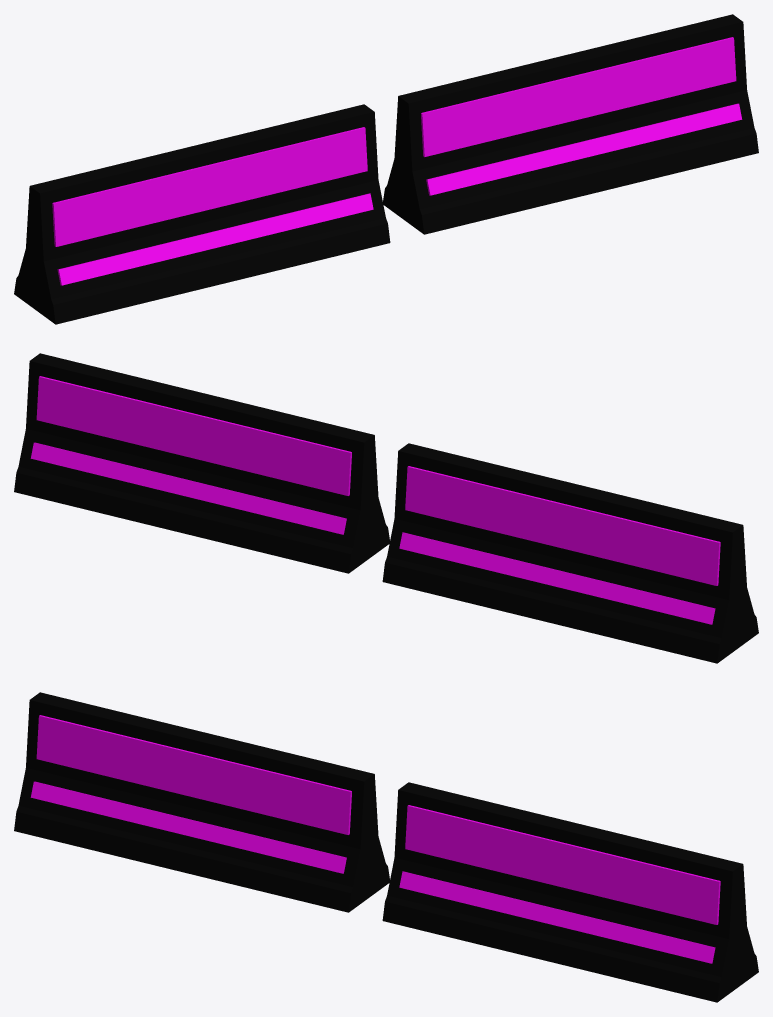
File: barrera.FBX
3 views of the same model, one above another, from view 1: azimuth 30°, elevation 25°; view 2: azimuth 150°, elevation 25°; view 3: azimuth 330°, elevation 25° (orthographic).
Visible parts, largest first — view 1: Box153; view 2: Box153; view 3: Box153.
Part boxes in pixels (x1=…): Box153: x1=14, y1=14, x2=758, y2=324; Box153: x1=14, y1=353, x2=758, y2=663; Box153: x1=14, y1=692, x2=758, y2=1002.
Bounding box in the file's own units: 591 × 96.05 × 60.62.
1 material, 1 textured.
